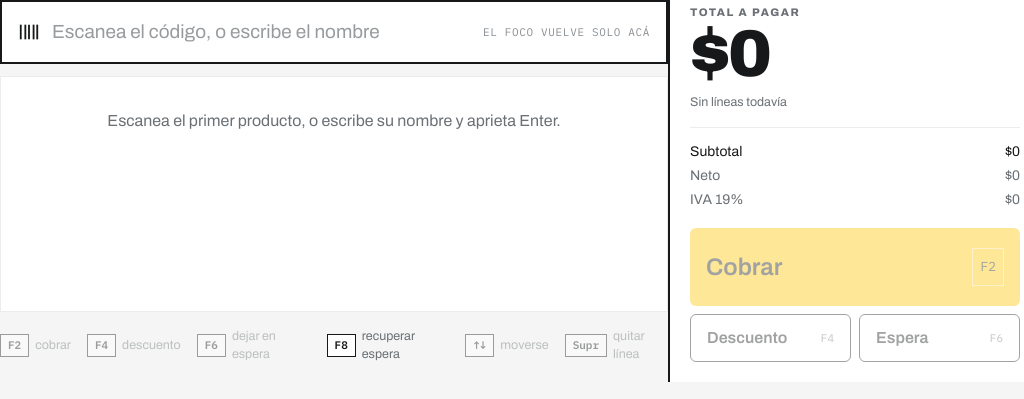
it: escanear › un código exacto agrega la línea sin preguntar nada
Type "7801234567890" into the dropdown.
click(262, 32); type("7801234567890")  # box x1=52 y1=18 x2=471 y2=46
Then press Enter
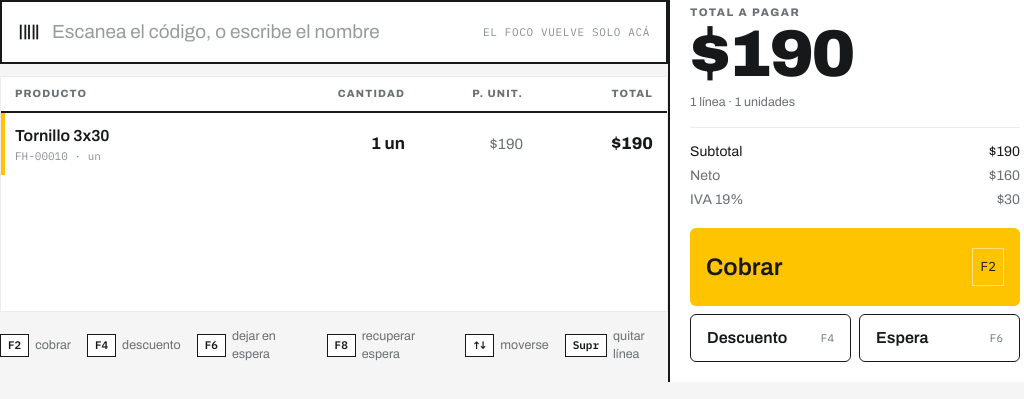
Now the text "Tornillo 3x30" is shown, box x1=15 y1=127 x2=110 y2=144
